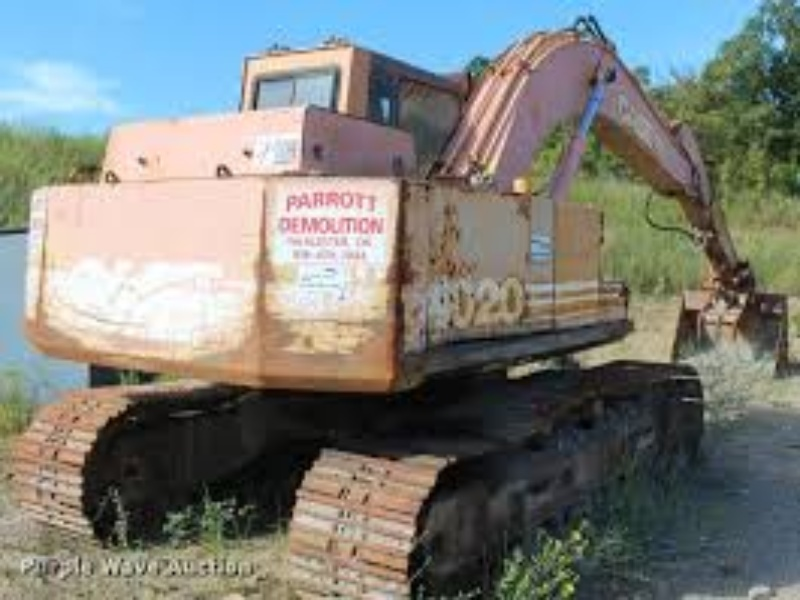wajueji: (22, 28, 731, 600)
